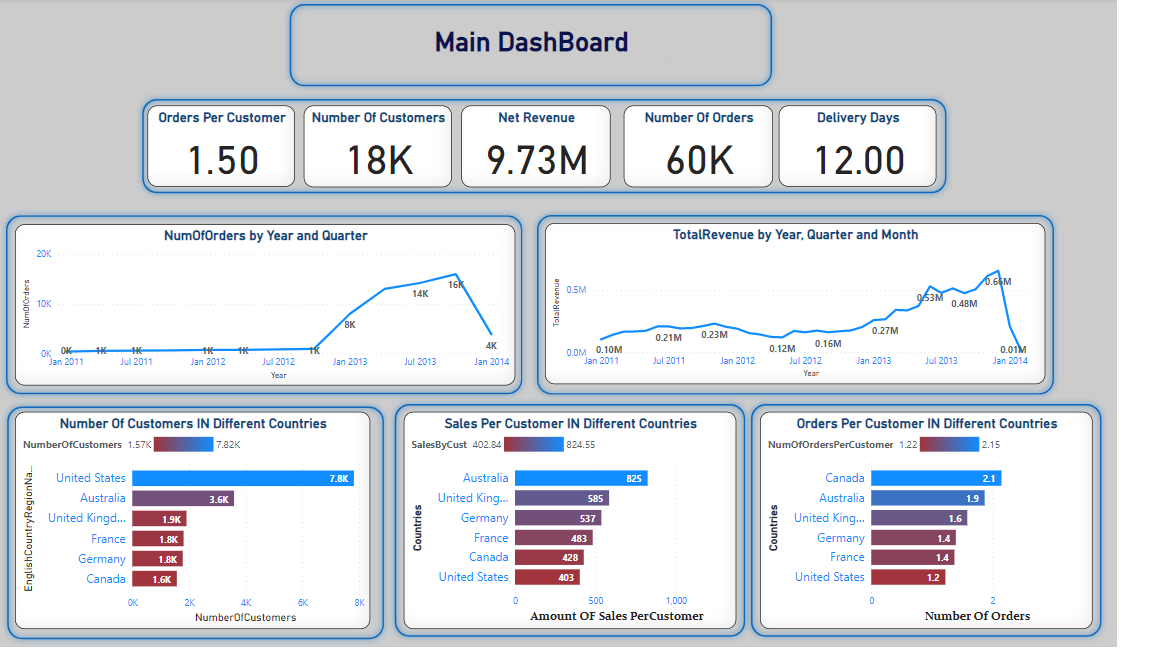

This screenshot's page, from the dashboard's own definition file:
{"tool":"powerbi","page":{"name":"MainDashBoard","canvas":[1500,1000],"ordinal":0},"visuals":[{"type":"shape","box":[1.7,539.4,520.9,328.3],"z":0},{"type":"shape","title":"Shape","box":[712.5,282.8,707.8,256.2],"z":1000},{"type":"shape","box":[0,282.8,707.8,256.2],"z":2000},{"type":"shape","title":"Shape","box":[182.6,127.3,1093.8,142.4],"z":3000},{"type":"shape","box":[520.9,536,485.8,328.3],"z":4000},{"type":"card","title":"Net Revenue","fields":{"Values":["measures (2).TotalRevenue"]},"box":[618.6,143.4,200,109.4],"z":5000},{"type":"card","title":"Number Of Customers","fields":{"Values":["measures (2).NumberOfCustomers"]},"box":[407.7,143.4,198.4,109.4],"z":6000},{"type":"card","title":"Number Of Orders","fields":{"Values":["measures (2).NumOfOrders"]},"box":[835.8,143.4,200,109.4],"z":7000},{"type":"lineChart","fields":{"Y":["measures (2).NumOfOrders"],"Category":["DimDate.FullDateAlternateKey.Variation.Date Hierarchy.Year","DimDate.FullDateAlternateKey.Variation.Date Hierarchy.Quarter","DimDate.FullDateAlternateKey.Variation.Date Hierarchy.Month","DimDate.FullDateAlternateKey.Variation.Date Hierarchy.Day"]},"box":[20,303.4,670.3,215.6],"z":8000},{"type":"card","title":"Delivery Days","fields":{"Values":["measures .AVGDaysForDelivery"]},"box":[1043.6,144.1,211.1,108.9],"z":9000},{"type":"barChart","title":"Number Of Customers IN Different Countries","fields":{"Category":["DimGeography.EnglishCountryRegionName"],"Y":["measures (2).NumberOfCustomers"]},"box":[20.1,554.4,475.7,291.5],"z":10000},{"type":"clusteredBarChart","title":"Sales Per Customer IN Different Countries","fields":{"Category":["DimGeography.EnglishCountryRegionName"],"Y":["measures .SalesByCust"]},"box":[541,554.4,445.6,291.5],"z":11000},{"type":"lineChart","fields":{"Y":["measures .TotalRevenue"],"Category":["DimDate.FullDateAlternateKey.Variation.Date Hierarchy.Year","DimDate.FullDateAlternateKey.Variation.Date Hierarchy.Quarter","DimDate.FullDateAlternateKey.Variation.Date Hierarchy.Month","DimDate.FullDateAlternateKey.Variation.Date Hierarchy.Day"]},"box":[730.3,301.5,670,216.1],"z":12000},{"type":"shape","title":"Shape","box":[379.7,0,662.5,126.6],"z":13000},{"type":"textbox","title":"Main DashBoard","box":[521.9,37.5,379.7,53.1],"z":14000},{"type":"card","title":"Orders Per Customer","fields":{"Values":["measures .NumOfOrdersPerCustomer"]},"box":[197.7,144.1,197.7,108.9],"z":15000},{"type":"clusteredBarChart","title":"Orders Per Customer IN Different Countries","fields":{"Category":["DimGeography.EnglishCountryRegionName"],"Y":["measures .NumOfOrdersPerCustomer"]},"box":[1018.4,554.4,445.6,291.5],"z":16000},{"type":"shape","box":[998.3,536,485.8,328.3],"z":17000}]}

Visuals, with their boxes on the page's 1500x1000 design canvas (x1, y1, x2, y2). These are canvas units, not pixel positions in the 1152x648 screenshot, which may show the page scaled, cropped or inside an application window:
shape: (x1=2, y1=539, x2=523, y2=868)
"Shape" shape: (x1=712, y1=283, x2=1420, y2=539)
shape: (x1=0, y1=283, x2=708, y2=539)
"Shape" shape: (x1=183, y1=127, x2=1276, y2=270)
shape: (x1=521, y1=536, x2=1007, y2=864)
"Net Revenue" card: (x1=619, y1=143, x2=819, y2=253)
"Number Of Customers" card: (x1=408, y1=143, x2=606, y2=253)
"Number Of Orders" card: (x1=836, y1=143, x2=1036, y2=253)
lineChart - measures (2).NumOfOrders x DimDate.FullDateAlternateKey.Variation.Date Hierarchy.Year: (x1=20, y1=303, x2=690, y2=519)
"Delivery Days" card: (x1=1044, y1=144, x2=1255, y2=253)
"Number Of Customers IN Different Countries" barChart: (x1=20, y1=554, x2=496, y2=846)
"Sales Per Customer IN Different Countries" clusteredBarChart: (x1=541, y1=554, x2=987, y2=846)
lineChart - measures .TotalRevenue x DimDate.FullDateAlternateKey.Variation.Date Hierarchy.Year: (x1=730, y1=302, x2=1400, y2=518)
"Shape" shape: (x1=380, y1=0, x2=1042, y2=127)
"Main DashBoard" textbox: (x1=522, y1=38, x2=902, y2=91)
"Orders Per Customer" card: (x1=198, y1=144, x2=395, y2=253)
"Orders Per Customer IN Different Countries" clusteredBarChart: (x1=1018, y1=554, x2=1464, y2=846)
shape: (x1=998, y1=536, x2=1484, y2=864)
